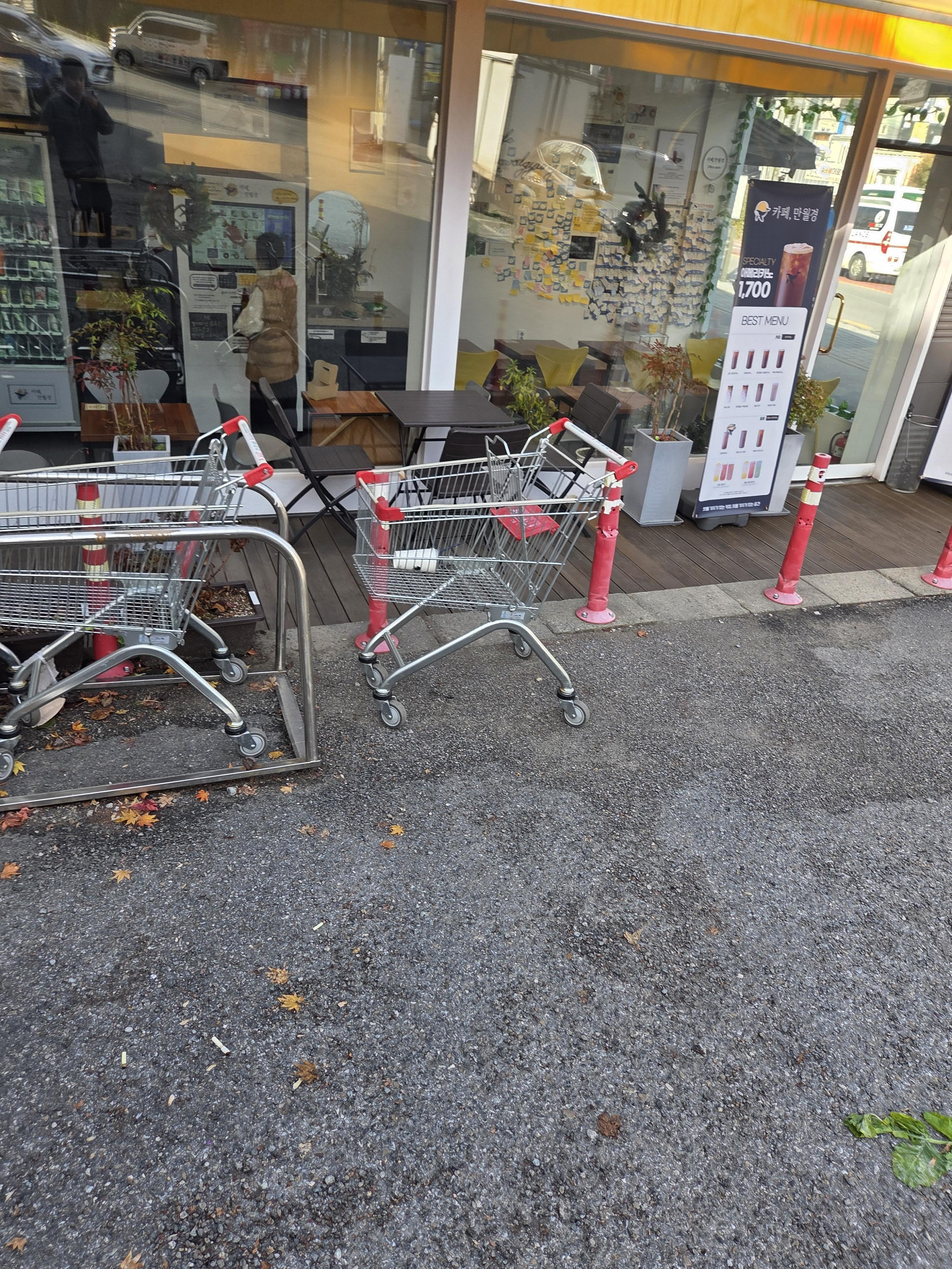combined_cart: (0, 418, 326, 822)
empty_cart: (339, 411, 636, 708)
